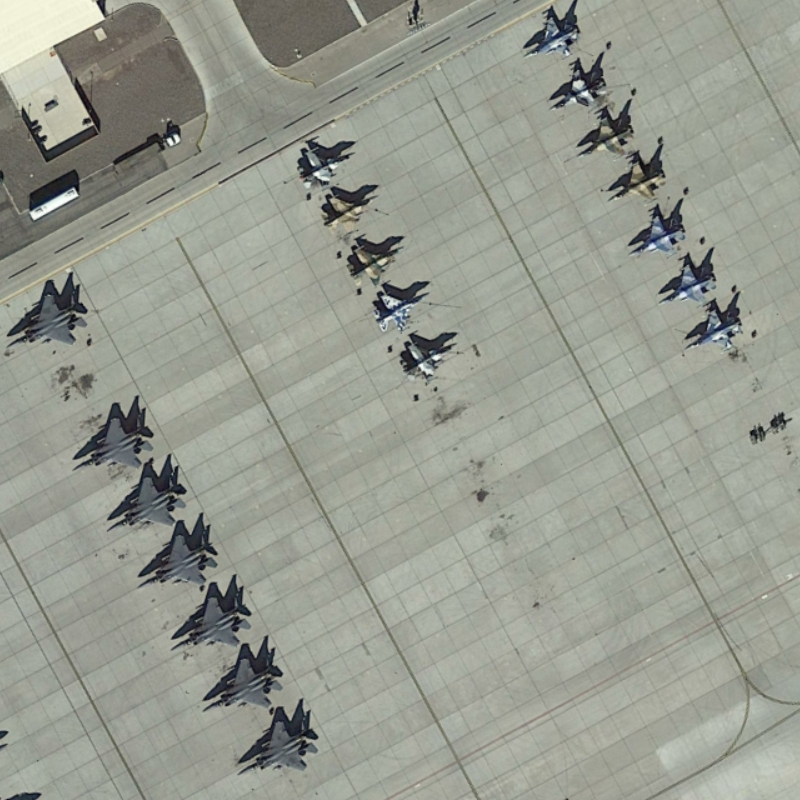A13: (94, 461, 191, 537), (232, 709, 325, 785), (3, 276, 97, 351), (166, 583, 257, 656), (65, 404, 158, 475), (194, 647, 287, 713), (131, 524, 221, 591)
A5: (521, 1, 590, 64), (677, 297, 748, 358), (600, 150, 677, 206), (395, 328, 465, 389), (653, 252, 724, 311), (626, 200, 691, 262), (547, 55, 614, 115), (341, 233, 406, 292), (571, 106, 638, 161), (294, 133, 354, 193), (320, 186, 383, 241), (369, 282, 434, 334)
